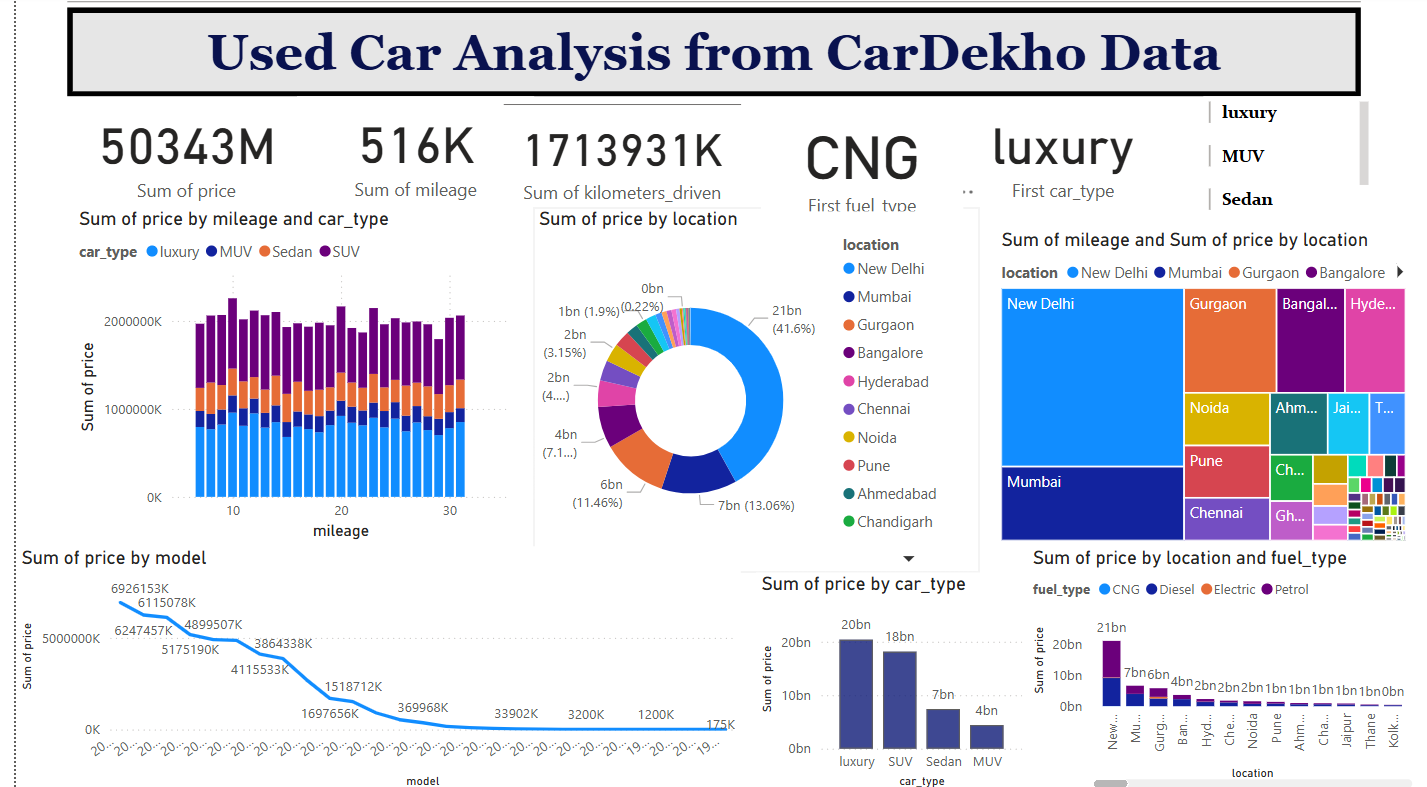

This screenshot's page, from the dashboard's own definition file:
{"tool":"powerbi","page":{"name":"Page 2","canvas":[1280,720],"ordinal":0},"visuals":[{"type":"textbox","box":[9.8,0,793.6,59.9],"z":0},{"type":"shape","box":[46.5,6.1,1166.6,85.6],"z":2000},{"type":"card","fields":{"Values":["Sum(car_details used_cars.price)"]},"box":[46.5,92.9,215.2,99],"z":3000},{"type":"card","fields":{"Values":["Sum(car_details used_cars.mileage)"]},"box":[253.1,91.7,214,100.3],"z":4000},{"type":"card","fields":{"Values":["Min(car_details used_cars.car_type)"]},"box":[854.4,92.2,180,100],"z":5000},{"type":"multiRowCard","fields":{"Values":["car_details used_cars.car_type"]},"box":[1071.2,91.7,154.1,119.8],"z":6000},{"type":"card","fields":{"Values":["Sum(car_details used_cars.kilometers_driven)"]},"box":[440,93.3,214.4,98.9],"z":7000},{"type":"textbox","box":[46,292,215,150],"z":9000},{"type":"textbox","box":[46,496,215,150],"z":10000},{"type":"columnChart","fields":{"Category":["car_details used_cars.mileage"],"Series":["car_details used_cars.car_type"],"Y":["Sum(car_details used_cars.price)"]},"box":[52.3,191.9,400,304.7],"z":11000},{"type":"donutChart","fields":{"Category":["car_details used_cars.location"],"Y":["Sum(car_details used_cars.price)"]},"box":[467.1,191.8,401.7,329.5],"z":12000},{"type":"lineChart","fields":{"Category":["car_details used_cars.model"],"Y":["Sum(car_details used_cars.price)"]},"box":[0,496.5,653.5,223.3],"z":13000},{"type":"columnChart","fields":{"Category":["car_details used_cars.car_type"],"Y":["Sum(car_details used_cars.price)"]},"box":[667.4,520.9,245.3,198.8],"z":14000},{"type":"treemap","fields":{"Group":["car_details used_cars.location"],"Values":["Sum(car_details used_cars.mileage)"]},"box":[883.7,210.5,374.4,286],"z":15000},{"type":"columnChart","fields":{"Category":["car_details used_cars.location"],"Y":["Sum(car_details used_cars.price)"],"Series":["car_details used_cars.fuel_type"]},"box":[911.6,496.5,352.3,223.3],"z":16000},{"type":"card","fields":{"Values":["Min(car_details used_cars.fuel_type)"]},"box":[672.1,101.2,182.6,98.8],"z":16001}]}

Visuals, with their boxes in screenshot pixels (x1, y1, x2, y2), scaled from the page's 1280x720 canvas onto the 1427x787 screenshot:
textbox: (11,0,896,65)
shape: (52,7,1352,100)
card - Sum(car_details used_cars.price): (52,102,292,210)
card - Sum(car_details used_cars.mileage): (282,100,521,210)
card - Min(car_details used_cars.car_type): (953,101,1153,210)
multiRowCard - car_details used_cars.car_type: (1194,100,1366,231)
card - Sum(car_details used_cars.kilometers_driven): (491,102,730,210)
textbox: (51,319,291,483)
textbox: (51,542,291,706)
columnChart - car_details used_cars.mileage x car_details used_cars.car_type: (58,210,504,543)
donutChart - car_details used_cars.location x Sum(car_details used_cars.price): (521,210,969,570)
lineChart - car_details used_cars.model x Sum(car_details used_cars.price): (0,543,729,786)
columnChart - car_details used_cars.car_type x Sum(car_details used_cars.price): (744,569,1018,786)
treemap - car_details used_cars.location x Sum(car_details used_cars.mileage): (985,230,1403,543)
columnChart - car_details used_cars.location x Sum(car_details used_cars.price): (1016,543,1409,786)
card - Min(car_details used_cars.fuel_type): (749,111,953,219)
